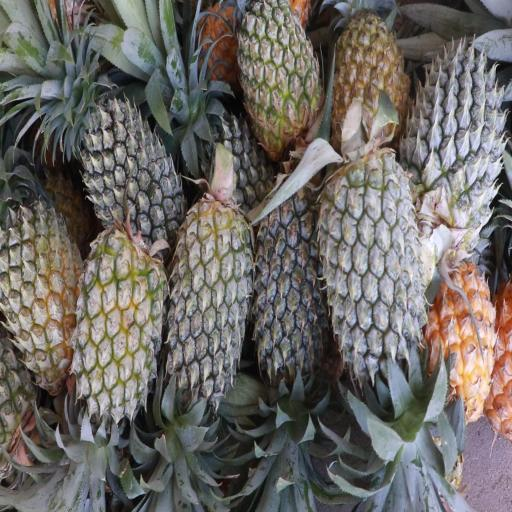------------------------------: (82, 233, 162, 418), (0, 207, 82, 377), (247, 0, 319, 151)
Pineapple - v8 v1: (332, 4, 411, 144), (426, 266, 500, 414)
